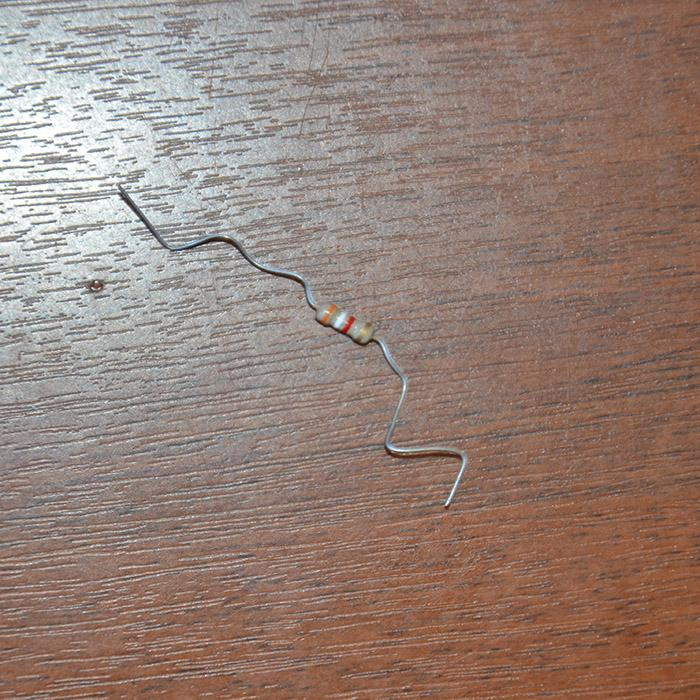resistor: (314, 301, 374, 347)
